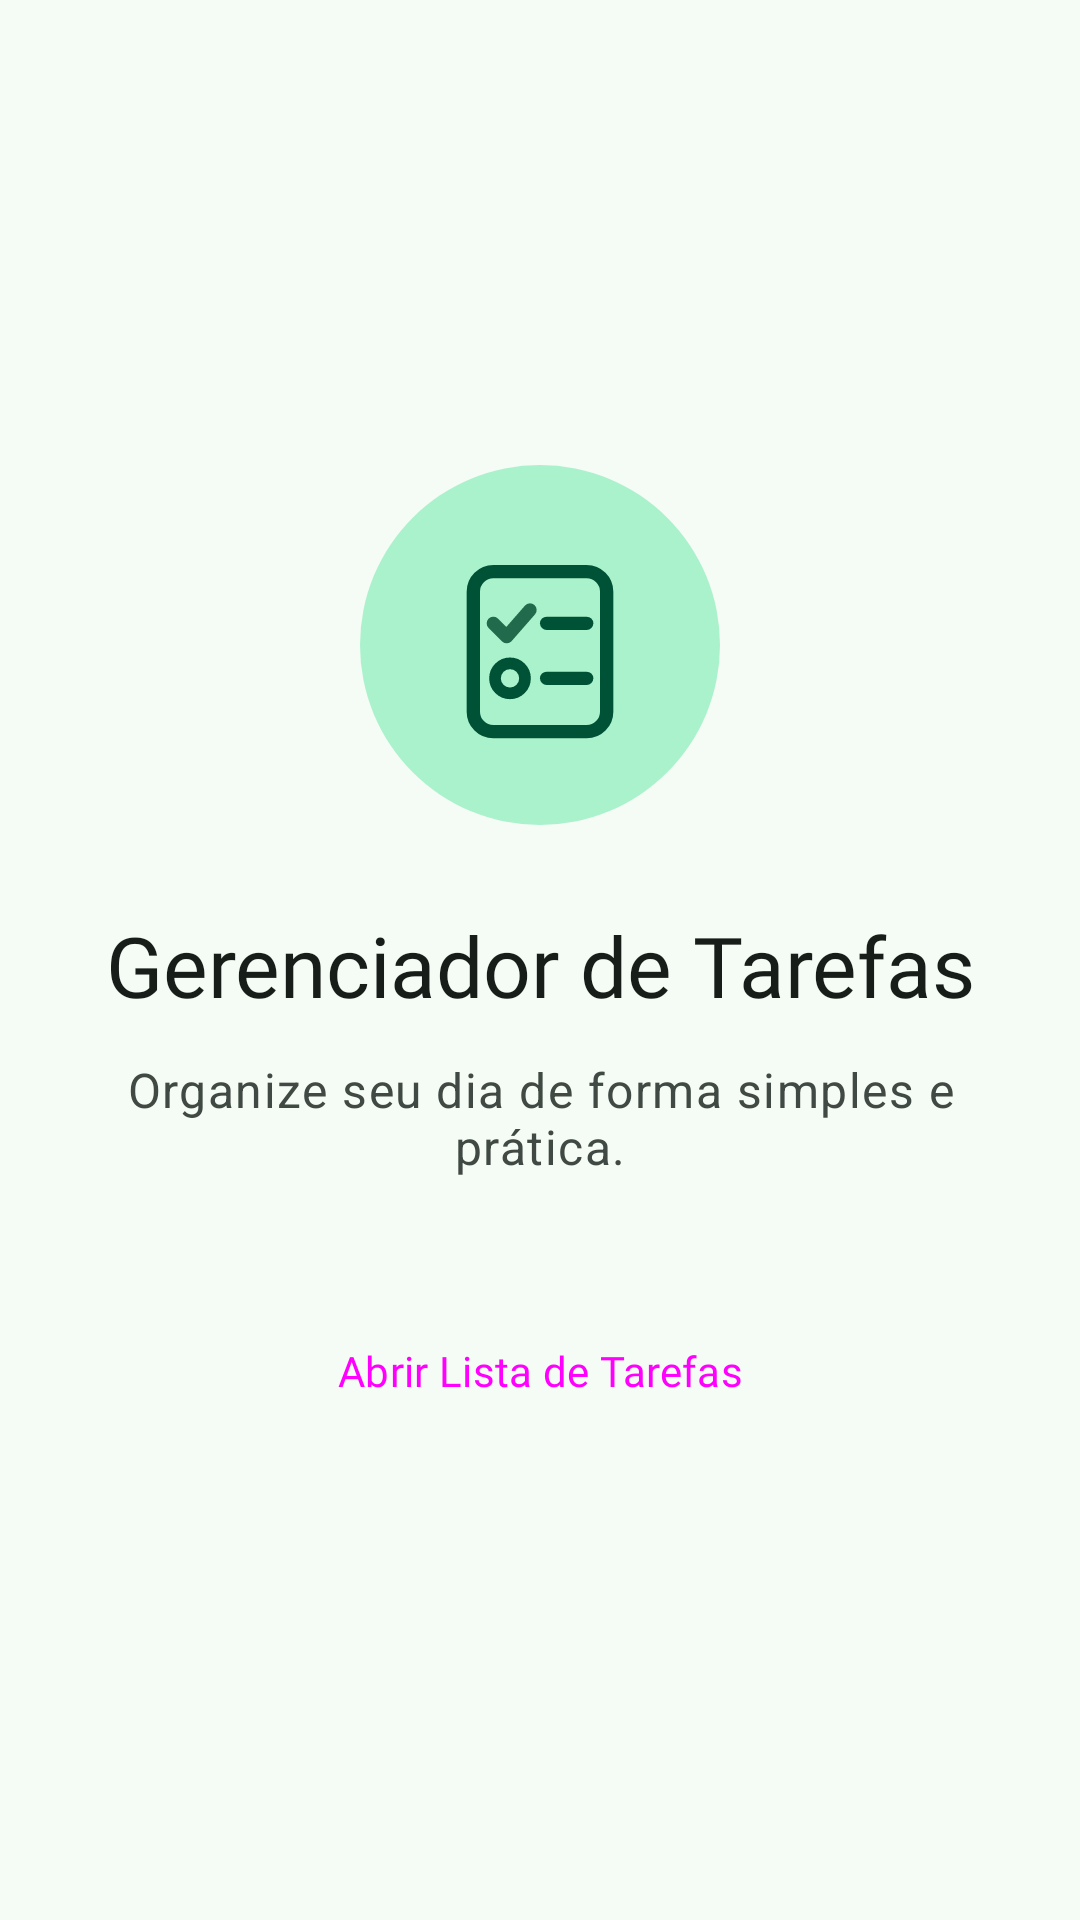

Where icons sit on this 1080px×1920px app screen, as (x1, y1, x2, y2):
ilustracao boas vindas: (360, 465, 720, 825)
